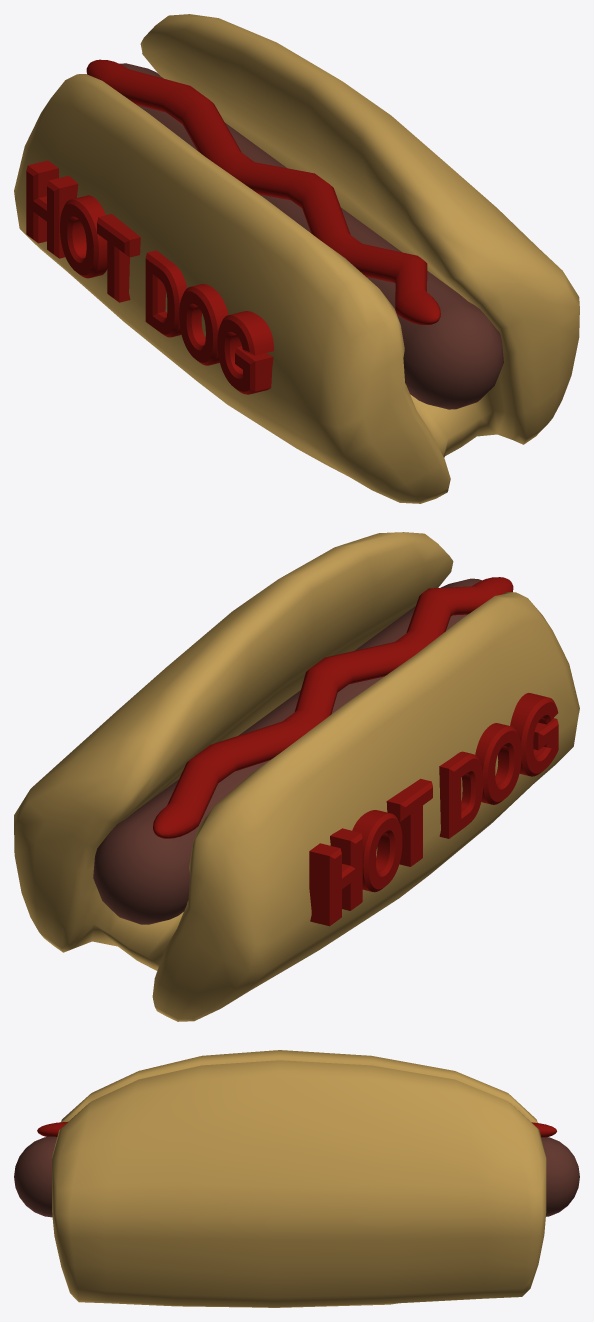
File: Hotdog_store_brand.FBX
The picture shows the model from 3 angles, top to bottom: view 1: azimuth 30°, elevation 25°; view 2: azimuth 150°, elevation 25°; view 3: azimuth 270°, elevation 25°; orthographic projection. The views are drawn at different scales.
Parts seen in each view (by area): view 1: bułka, TextPlus003, ketchup, parówka; view 2: bułka, TextPlus003, ketchup, parówka; view 3: bułka, parówka, ketchup.
Boxes of the visible parts, <box> form: bułka: <box>14,14,579,503</box>; TextPlus003: <box>26,160,274,394</box>; ketchup: <box>86,59,440,324</box>; parówka: <box>119,63,503,409</box>; bułka: <box>14,532,579,1021</box>; TextPlus003: <box>309,693,558,926</box>; ketchup: <box>153,577,513,838</box>; parówka: <box>93,578,481,924</box>; bułka: <box>52,1050,546,1307</box>; parówka: <box>14,1136,579,1217</box>; ketchup: <box>37,1122,556,1137</box>.
Bounding box in the file's own units: 114 × 123 × 252.
